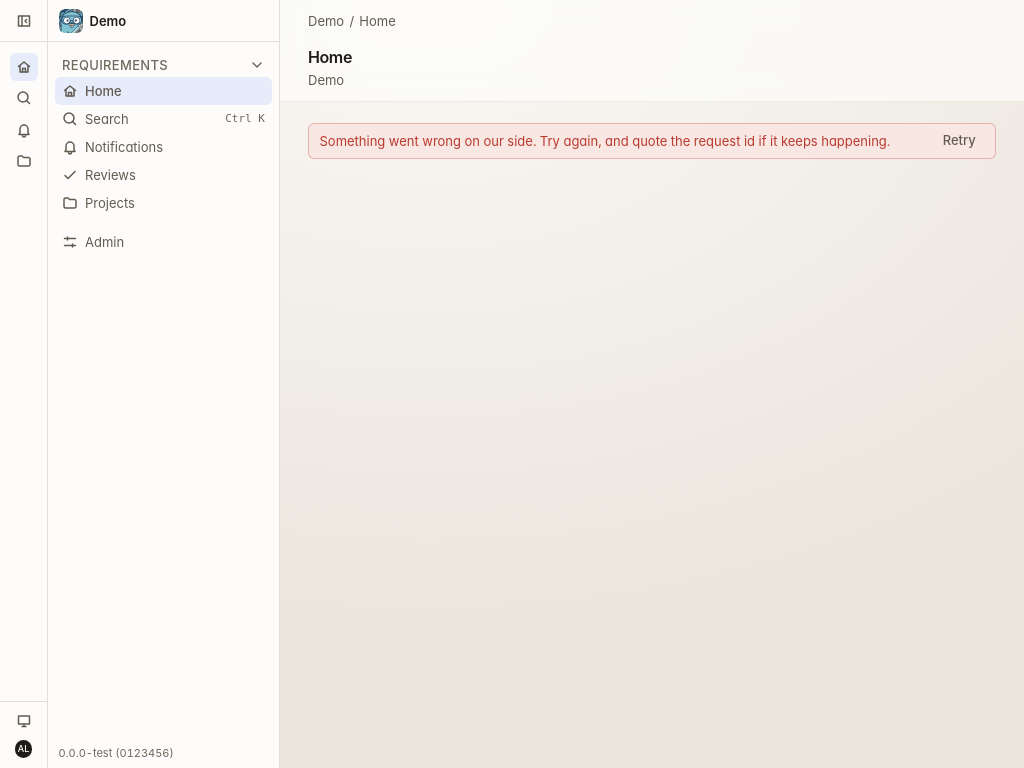
Test: the home screen's states › shows a failed read of the projects, and asks again on Retry
Check: the message shows "Something went wrong on our side.", box [320,133,890,149]
Click the button "Retry": (959, 140) [934,127,984,152]
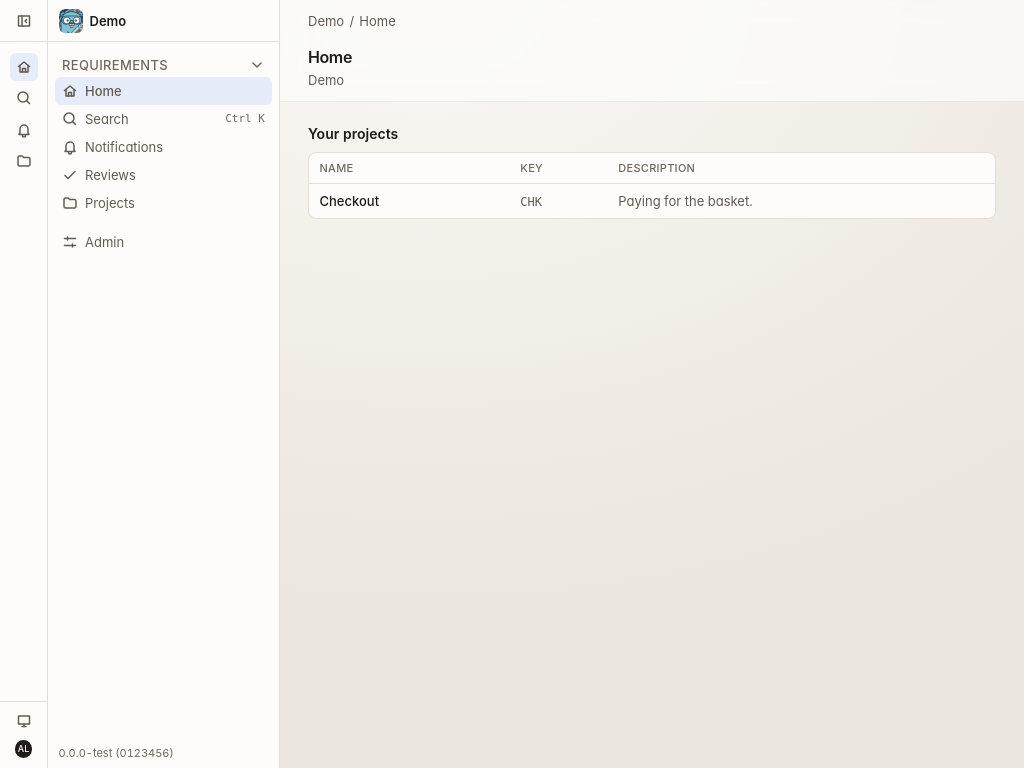
Check: the row "Checkout CHK Paying for the basket." is shown, box [309,183,995,218]
Check: the message is gone
